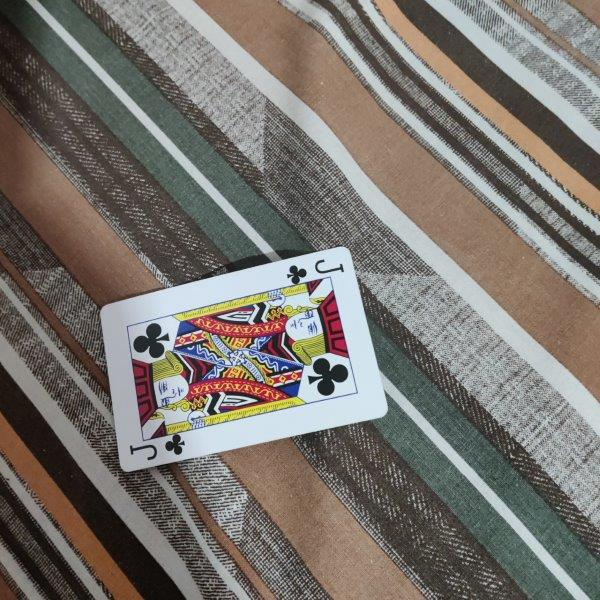Jack of Clubs: (100, 247, 388, 474)
